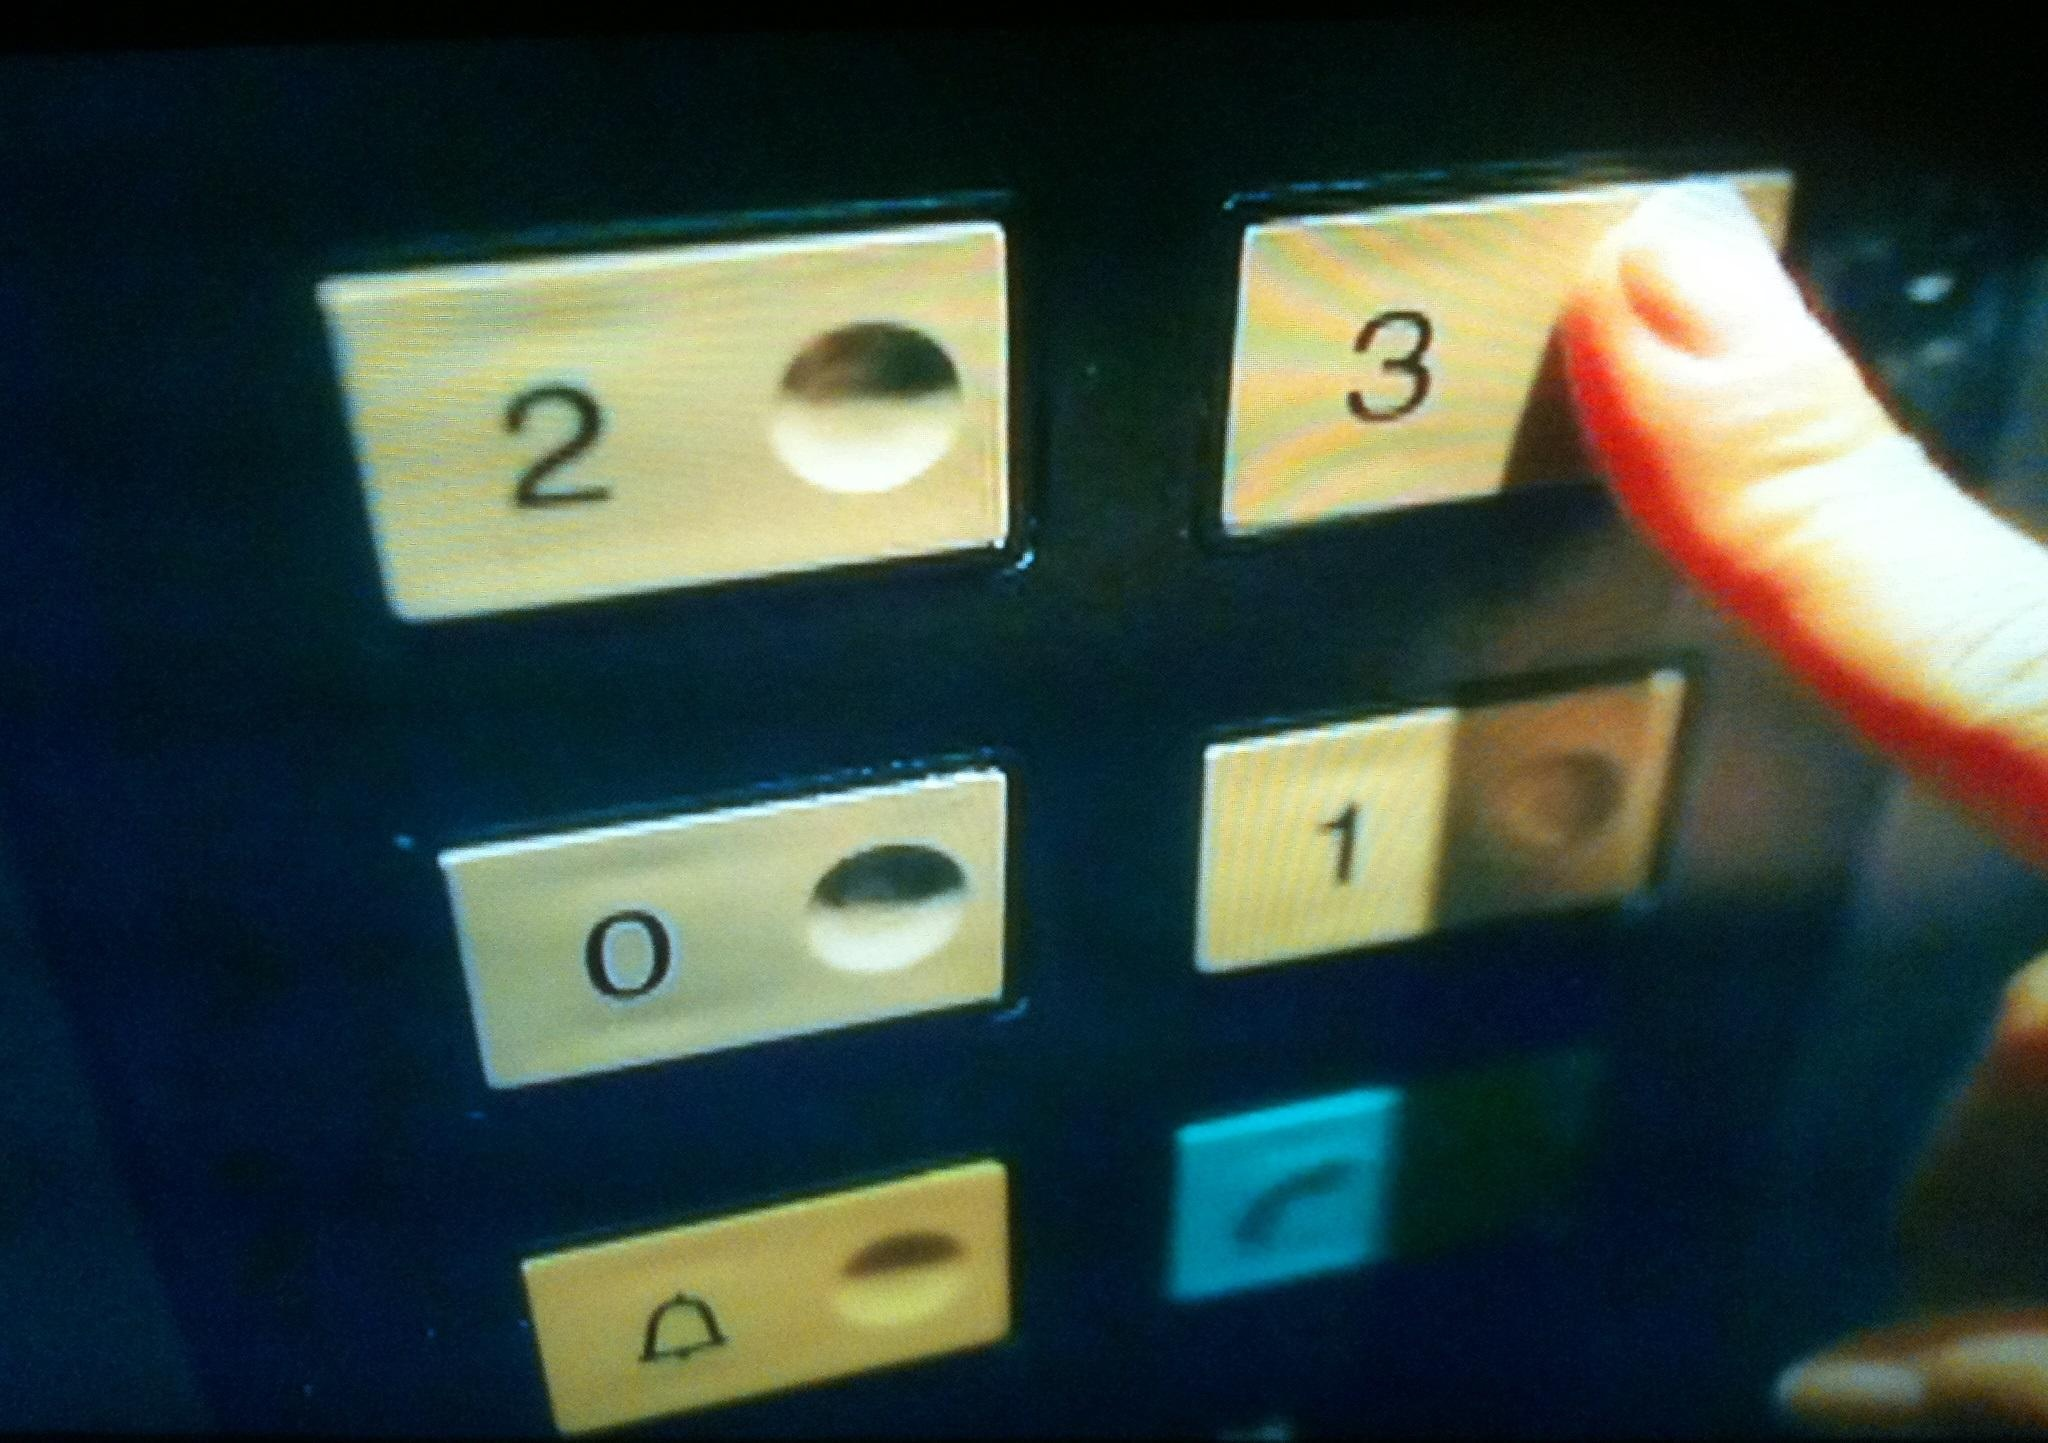0: (442, 750, 1054, 1106)
1: (1188, 639, 1719, 993)
2: (308, 195, 1079, 640)
3: (1208, 162, 1837, 565)
alarm: (524, 1132, 1035, 1437)
call: (1174, 1085, 1399, 1327)
